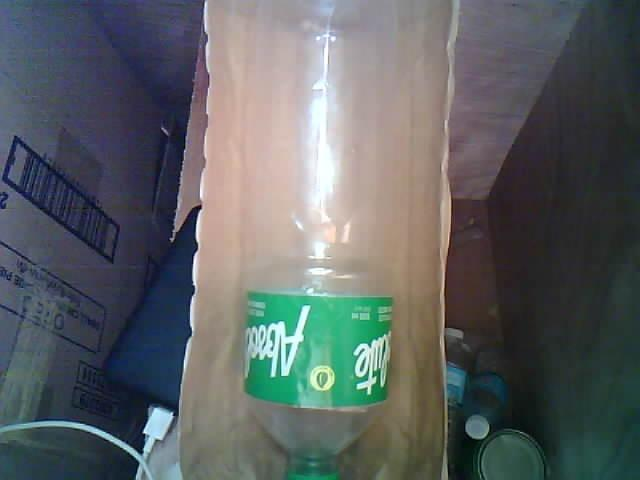large_bottle: (222, 0, 409, 480)
